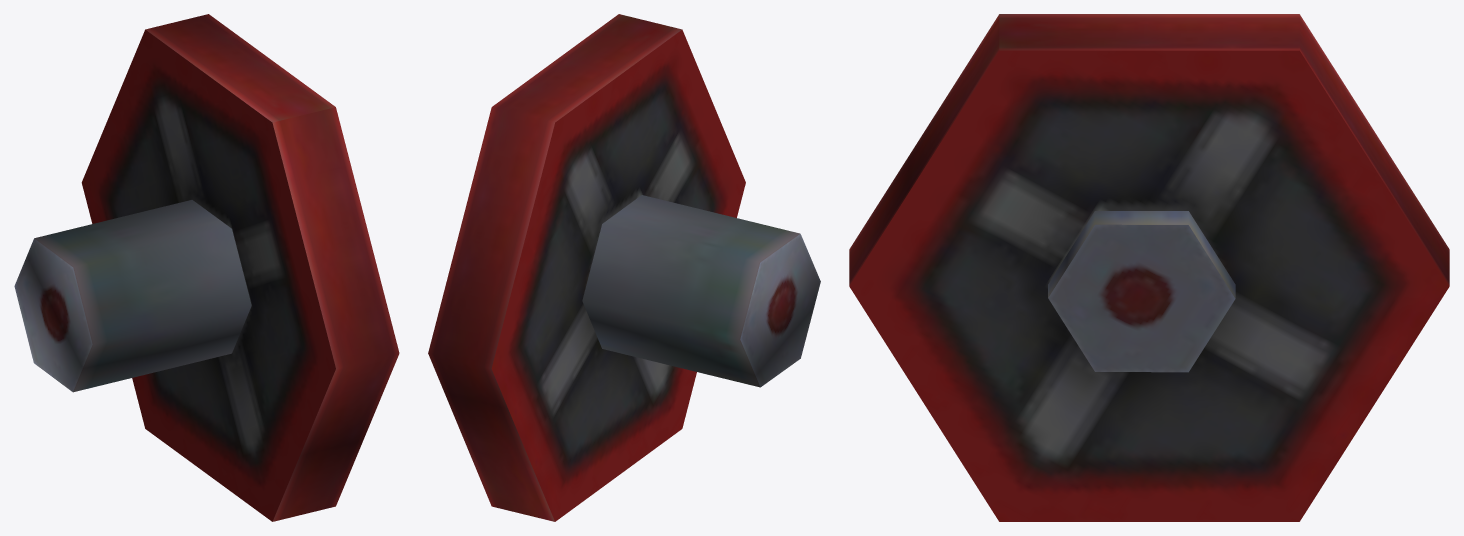
Rendered from animation_02_7826fee2__ZombiesII_depot_diffuse_07_f609ceb1_c1f257.obj.
3 renders of one model, left to right at view 1: azimuth 30°, elevation 25°; view 2: azimuth 150°, elevation 25°; view 3: azimuth 270°, elevation 25°, orthographic. The views are drawn at different scales.
Bounding box in the file's own units: 0.5414 × 0.835 × 0.9641.
Materials: 1 (1 with a texture image).
